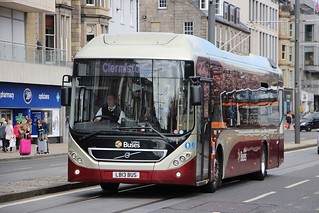bus: (68, 32, 285, 194)
